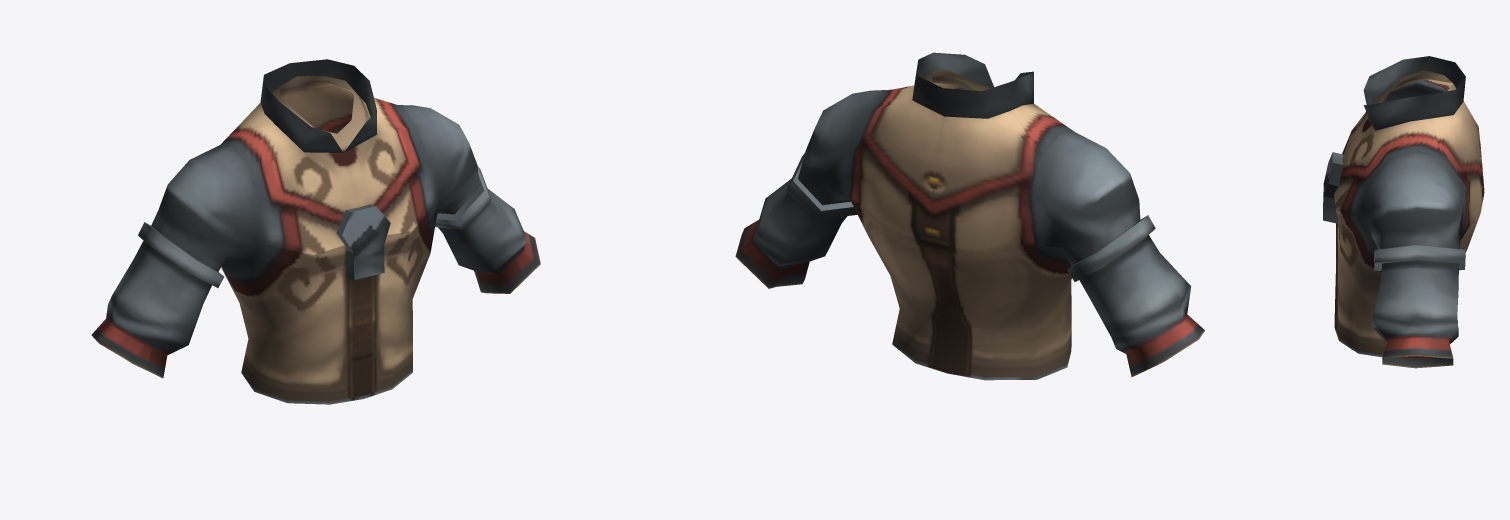
The model's file is hum_caster_01_e2a6e587.glb.
The picture shows the model from 3 angles, left to right: view 1: azimuth 30°, elevation 25°; view 2: azimuth 150°, elevation 25°; view 3: azimuth 270°, elevation 25°; orthographic projection. The views are drawn at different scales.
Size of the model in its own units: 1.64 by 0.9945 by 0.4597.
Materials: 1 (1 with a texture image).
